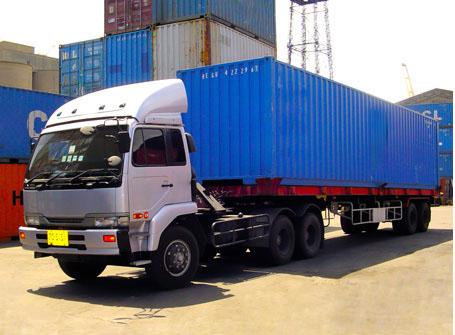truck: (21, 56, 443, 290)
